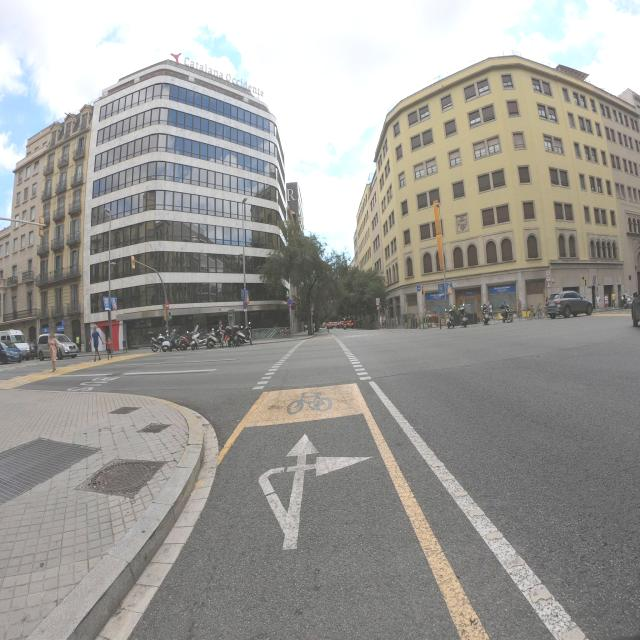bike: (193, 328, 225, 348), (192, 330, 218, 349), (223, 326, 246, 346), (149, 332, 169, 352), (170, 332, 190, 350), (526, 303, 545, 320), (444, 304, 456, 330), (500, 301, 512, 323), (458, 304, 468, 327), (481, 302, 490, 325)
car: (545, 290, 594, 318), (38, 333, 78, 359), (0, 340, 22, 364), (631, 289, 640, 328), (343, 318, 354, 329), (326, 320, 334, 330), (336, 320, 344, 328)
